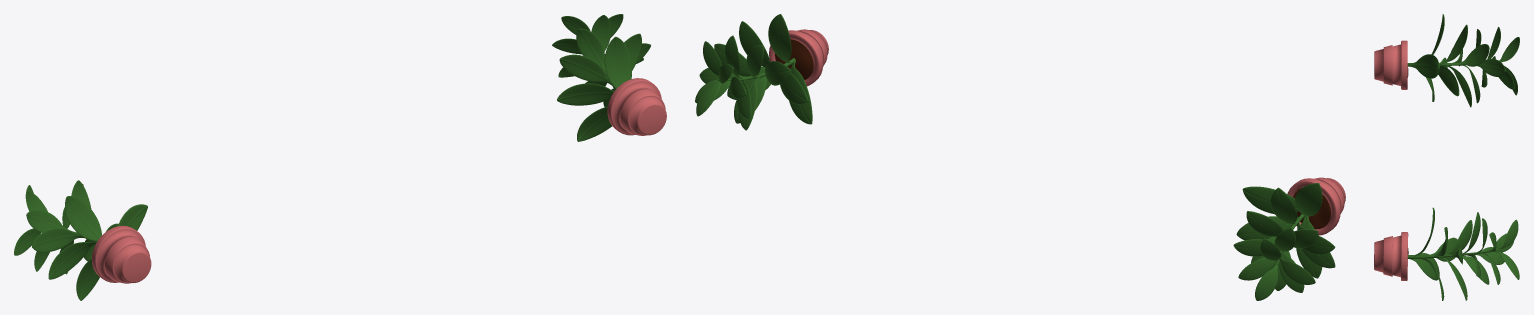
Rendered from plantas.fbx.
The picture shows the model from 3 angles, left to right: view 1: azimuth 30°, elevation 25°; view 2: azimuth 150°, elevation 25°; view 3: azimuth 270°, elevation 25°; orthographic projection. The views are drawn at different scales.
Visible parts, largest first — view 1: Planta.001; view 2: Planta.001; view 3: Planta.001.
Boxes of the visible parts, box(x1,y1,x2,y2) form: Planta.001: box(14, 14, 666, 300); Planta.001: box(695, 14, 1345, 300); Planta.001: box(1374, 14, 1519, 300).
Size of the model in its own units: 3.18 by 0.6499 by 0.7747.
Materials: 1 (1 with a texture image).
